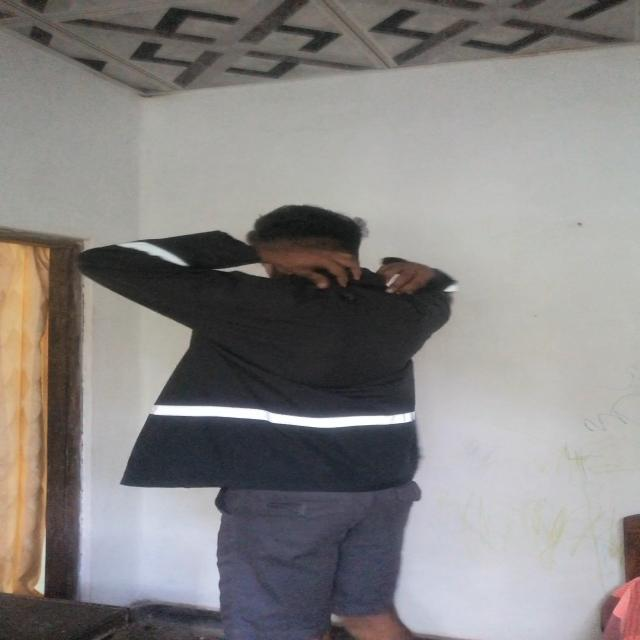Jacket_Wearer: (105, 226, 456, 502)
